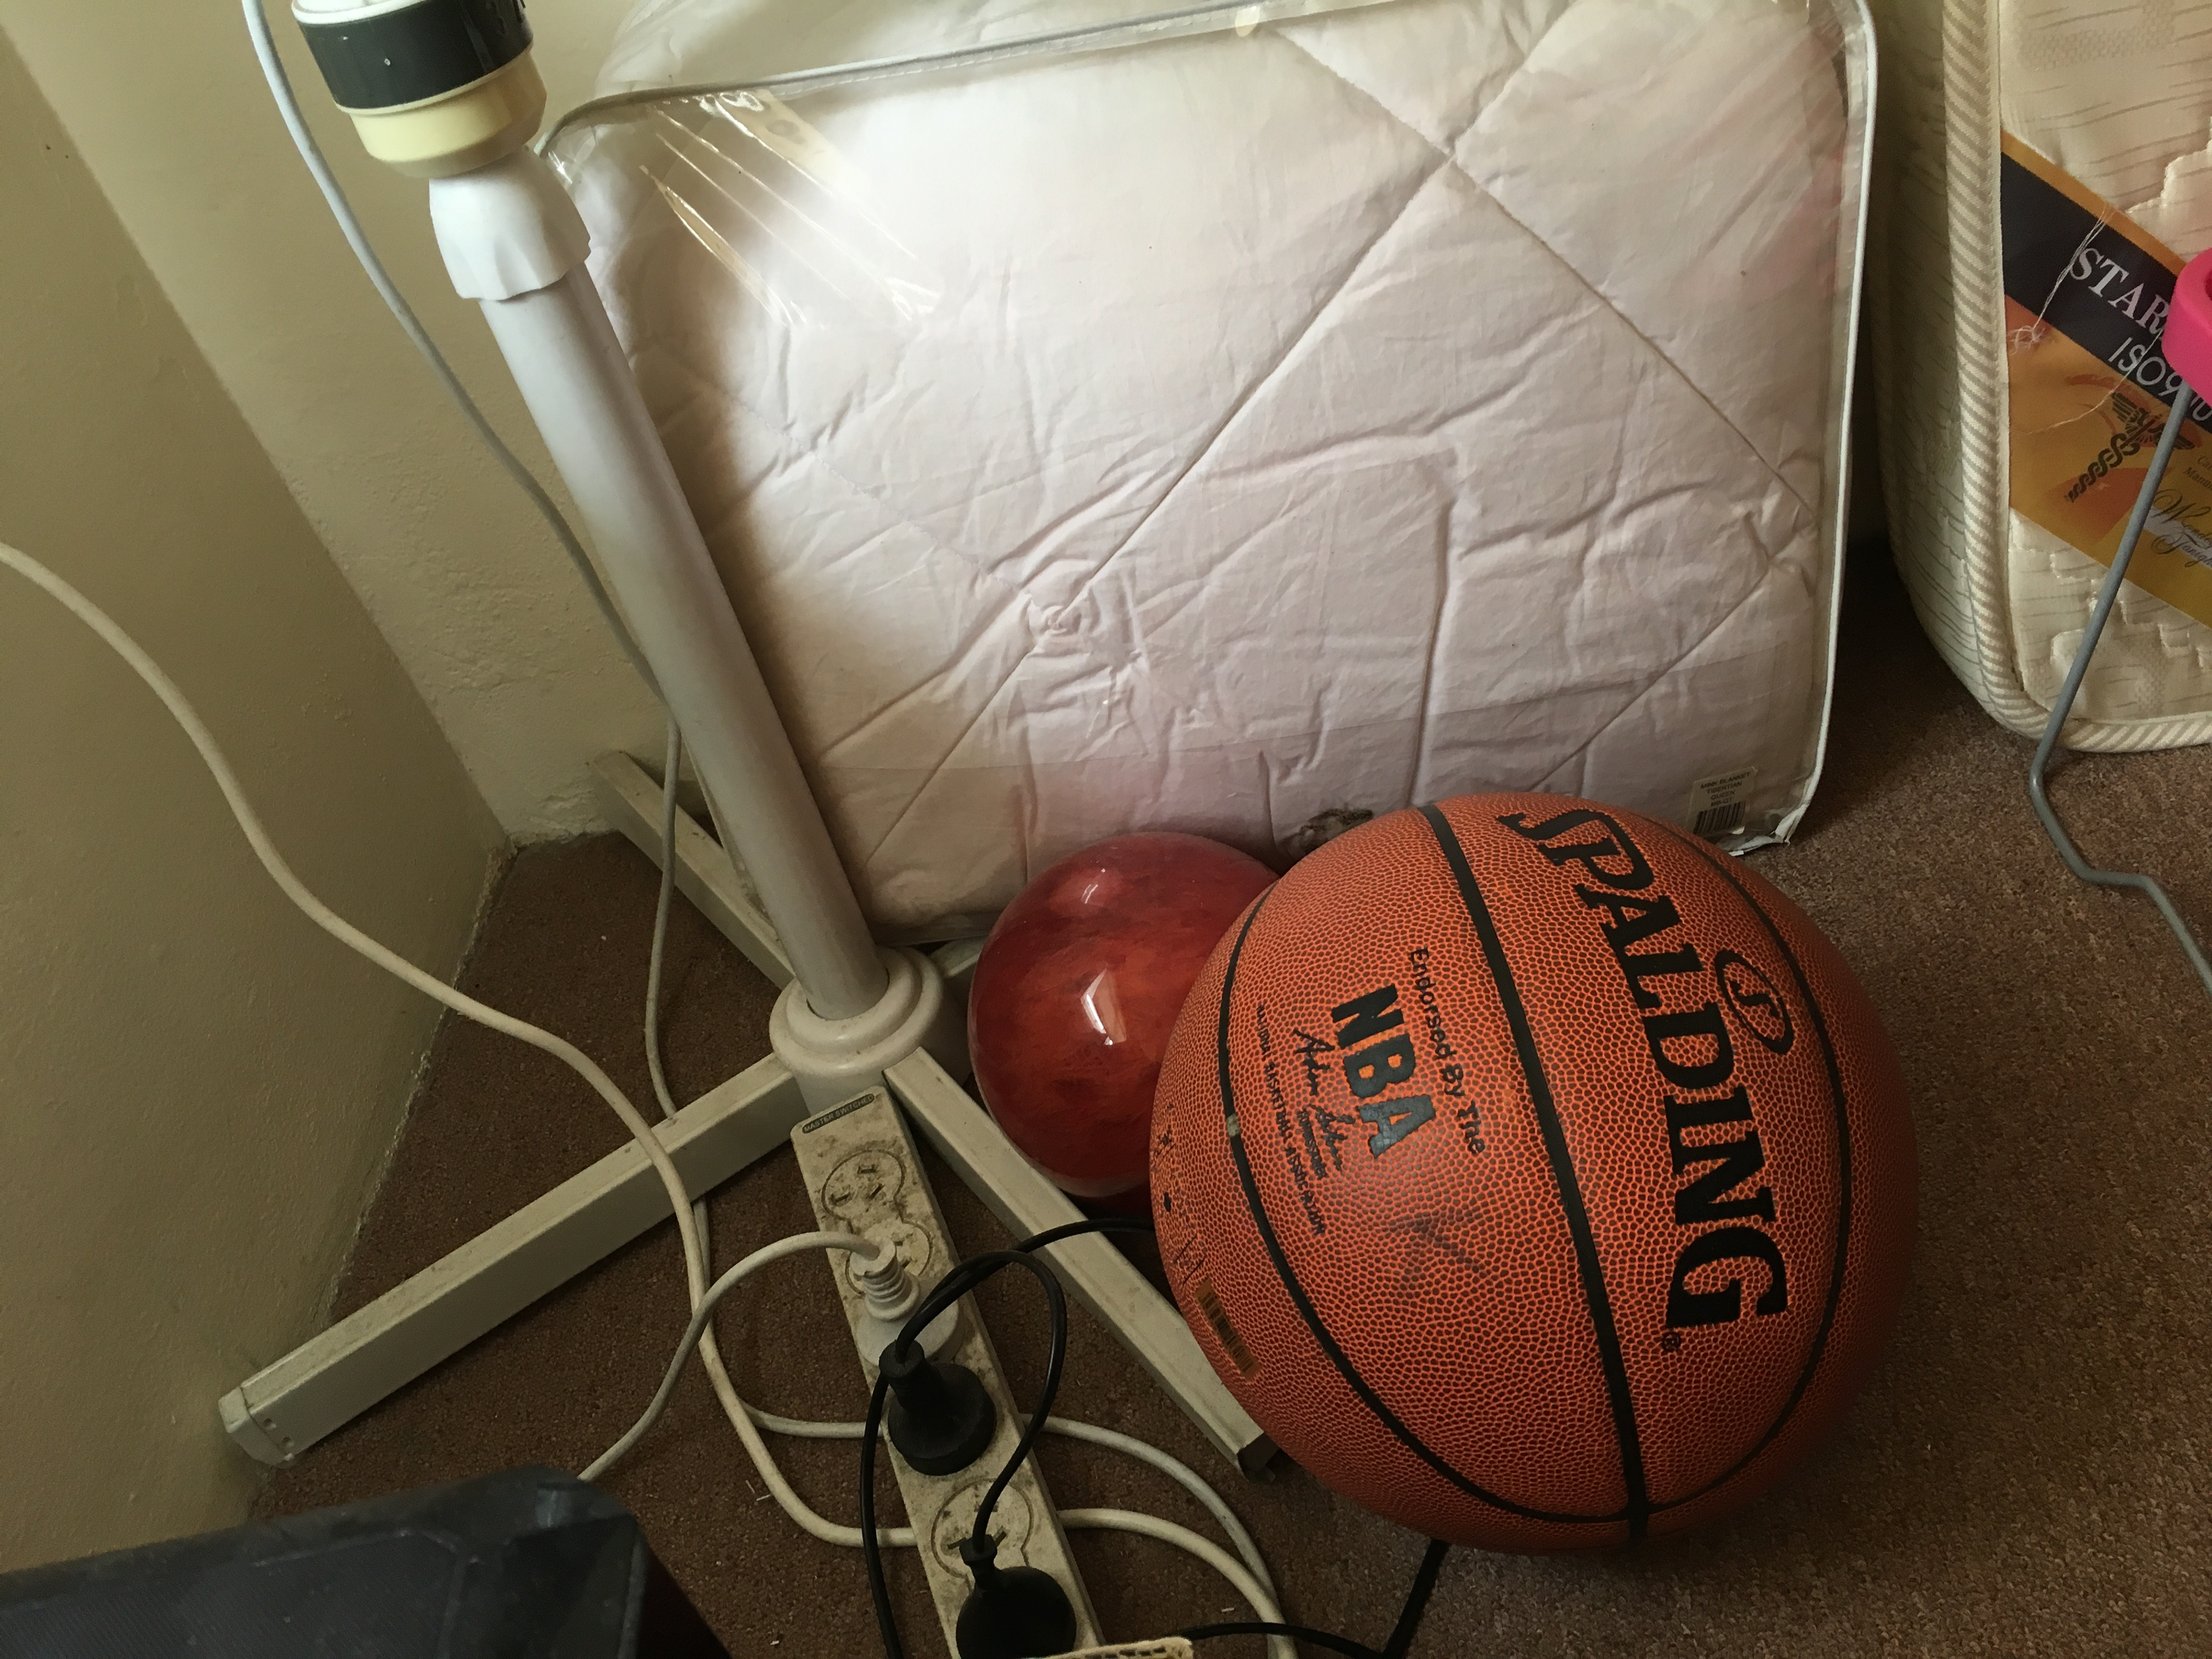Basketball: (1123, 763, 1942, 1593)
